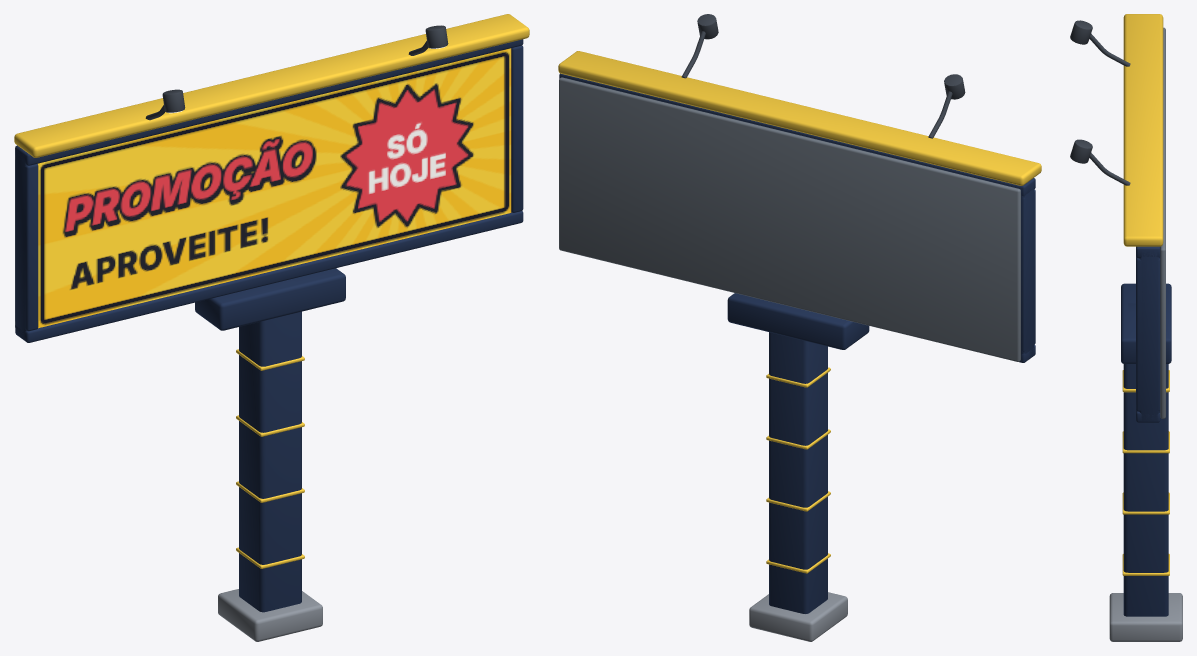
The model's file is outdoor_troca_promo.glb.
3 renders of one model, left to right at view 1: azimuth 30°, elevation 25°; view 2: azimuth 150°, elevation 25°; view 3: azimuth 270°, elevation 25°, orthographic. The views are drawn at different scales.
Visible parts, largest first — view 1: tela_troca, outdoor_troca_promo; view 2: outdoor_troca_promo; view 3: outdoor_troca_promo.
Part boxes in pixels (x1=…): tela_troca: x1=38, y1=48, x2=511, y2=328; outdoor_troca_promo: x1=14, y1=14, x2=529, y2=641; outdoor_troca_promo: x1=558, y1=14, x2=1041, y2=641; outdoor_troca_promo: x1=1070, y1=14, x2=1182, y2=641.
Size of the model in its own units: 9.44 by 10.69 by 2.
3 materials, 2 textured.
